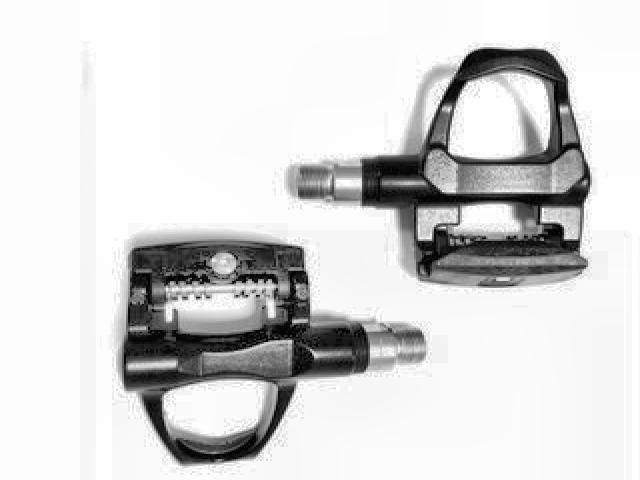pedal: (291, 44, 597, 288), (109, 243, 431, 470)
